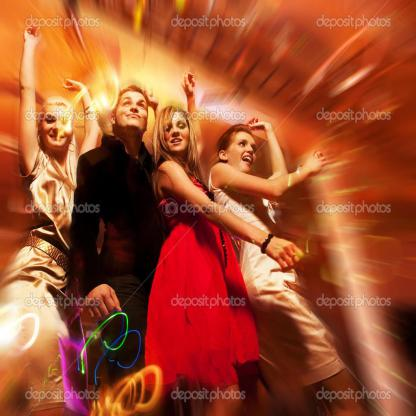face: (42, 98, 75, 152), (120, 96, 149, 133), (235, 132, 259, 175), (165, 114, 192, 152)
